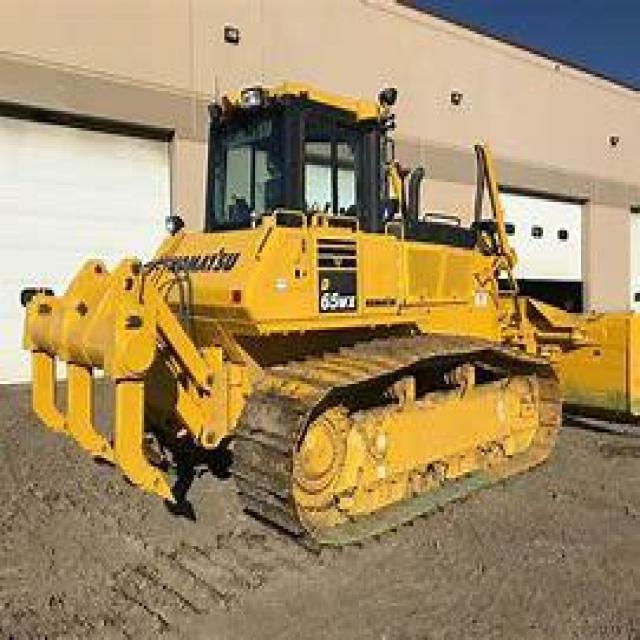Bulldozer: (21, 51, 638, 558)
